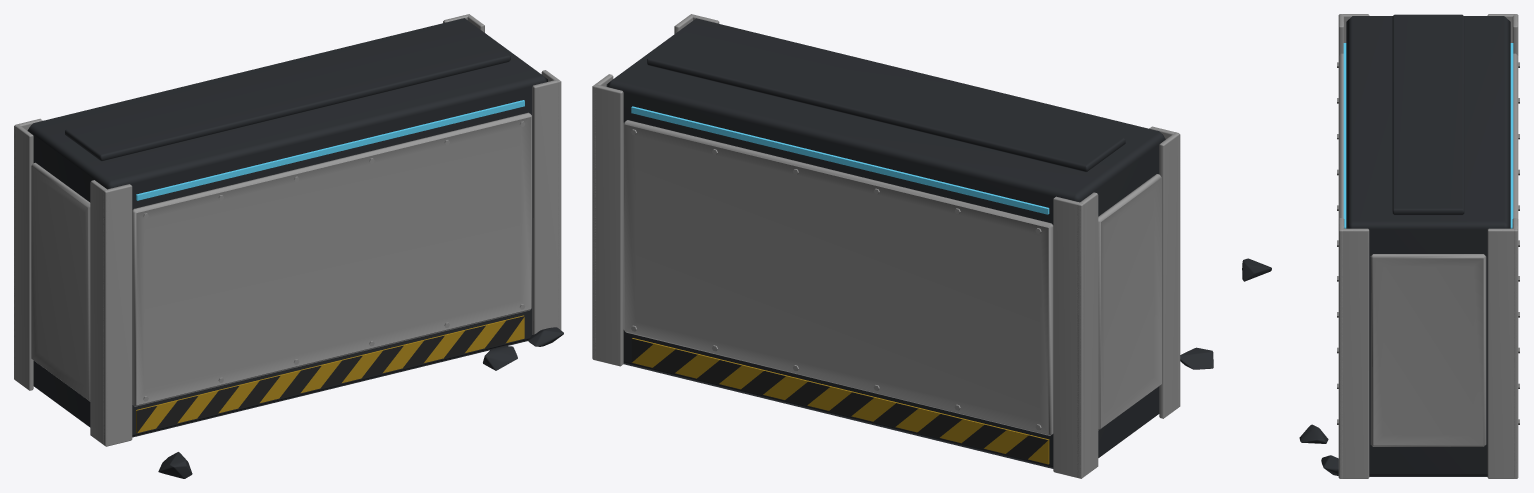
The model's file is Core_CoverBlock_Large.fbx.
3 views of the same model, side by side, from view 1: azimuth 30°, elevation 25°; view 2: azimuth 150°, elevation 25°; view 3: azimuth 270°, elevation 25° (orthographic). The views are drawn at different scales.
Parts seen in each view (by area): view 1: Core_CoverBlock_Large_LOD0; view 2: Core_CoverBlock_Large_LOD0; view 3: Core_CoverBlock_Large_LOD0.
Part boxes in pixels (x1,y1,x2,y2): Core_CoverBlock_Large_LOD0: [14, 14, 563, 478]; Core_CoverBlock_Large_LOD0: [592, 14, 1213, 478]; Core_CoverBlock_Large_LOD0: [1242, 14, 1519, 478].
Size of what is drawn, in the model's own units: 4 by 2.26 by 2.16.
